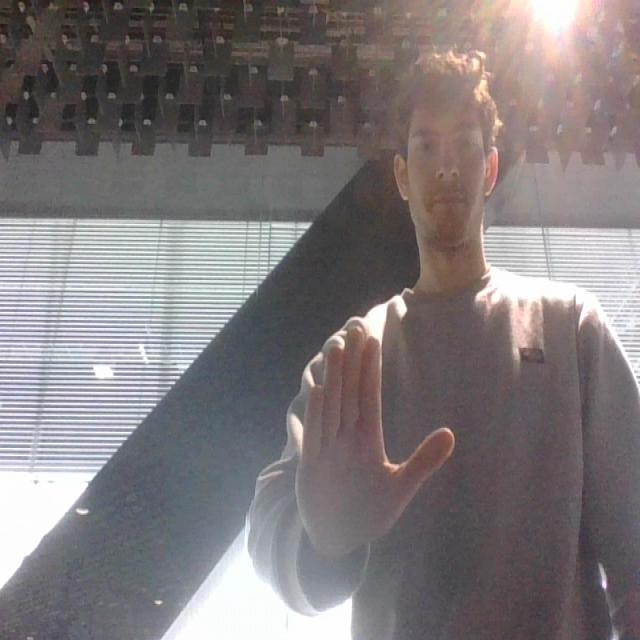backward: (295, 320, 457, 568)
